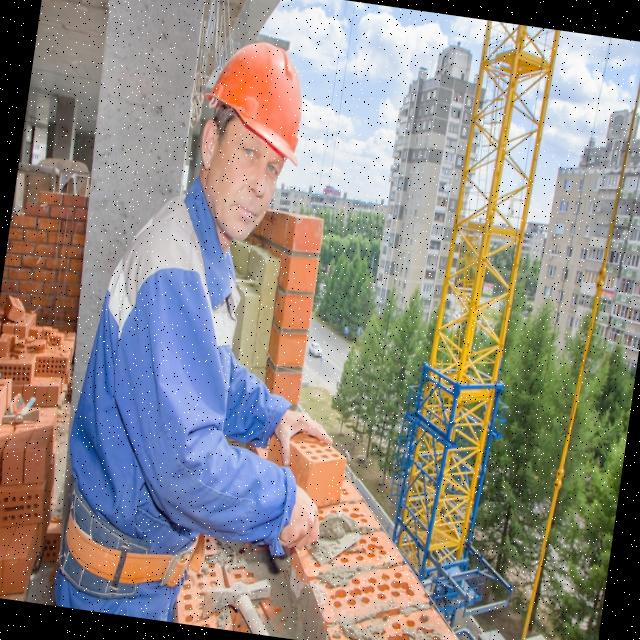Helmet: (196, 37, 317, 171)
NoJacket: (69, 191, 250, 584)
